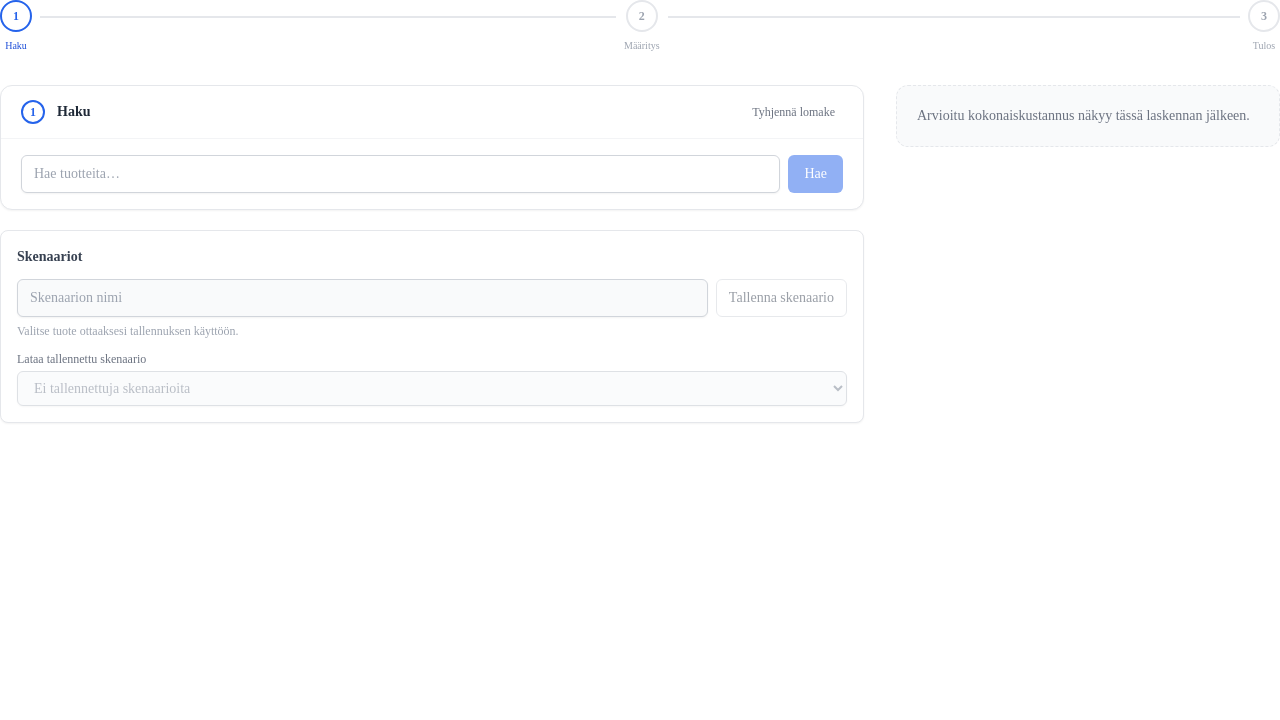
Test: CalculatorPage search no-results state (task 5.3) › renders the designed EmptyState when a settled search returns nothing
This screenshot has width=1280, height=720.
Type "absintti" into the field with placeholder "Hae tuotteita…". click: point(401, 174)
box: [21,155,780,193]
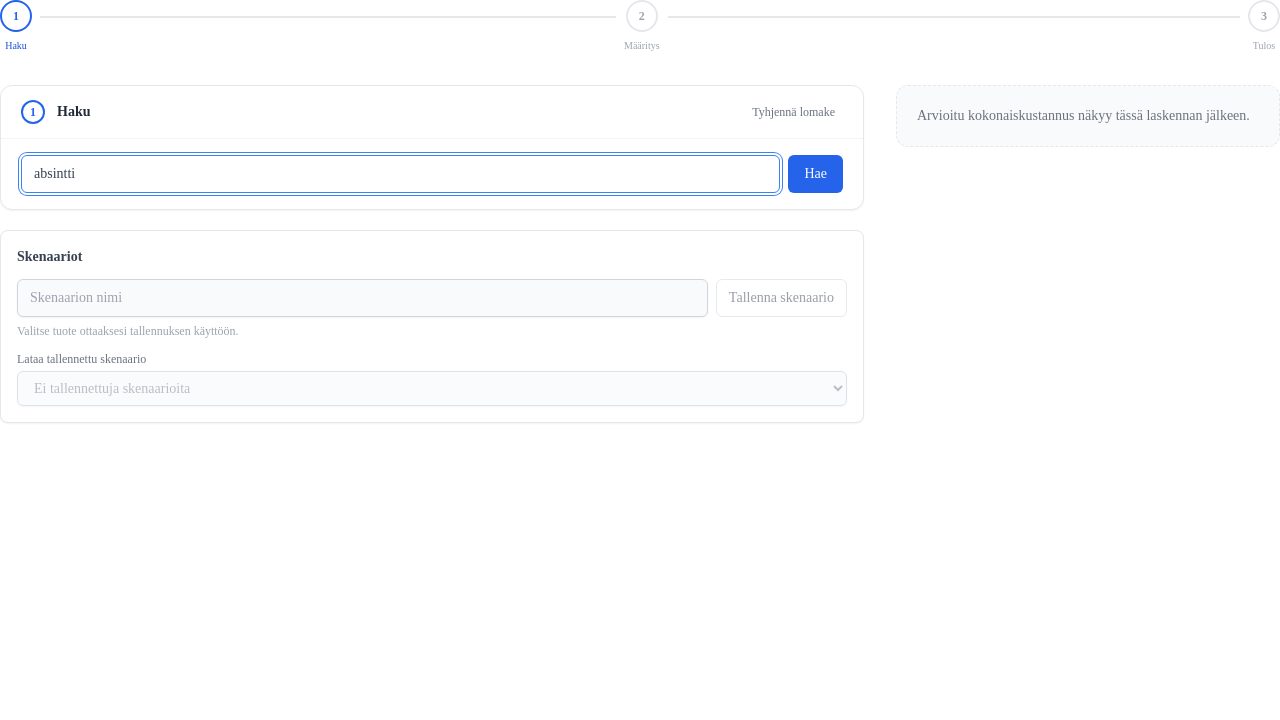
Click the button "Hae". click: point(816, 174)
box: [788,155,843,193]
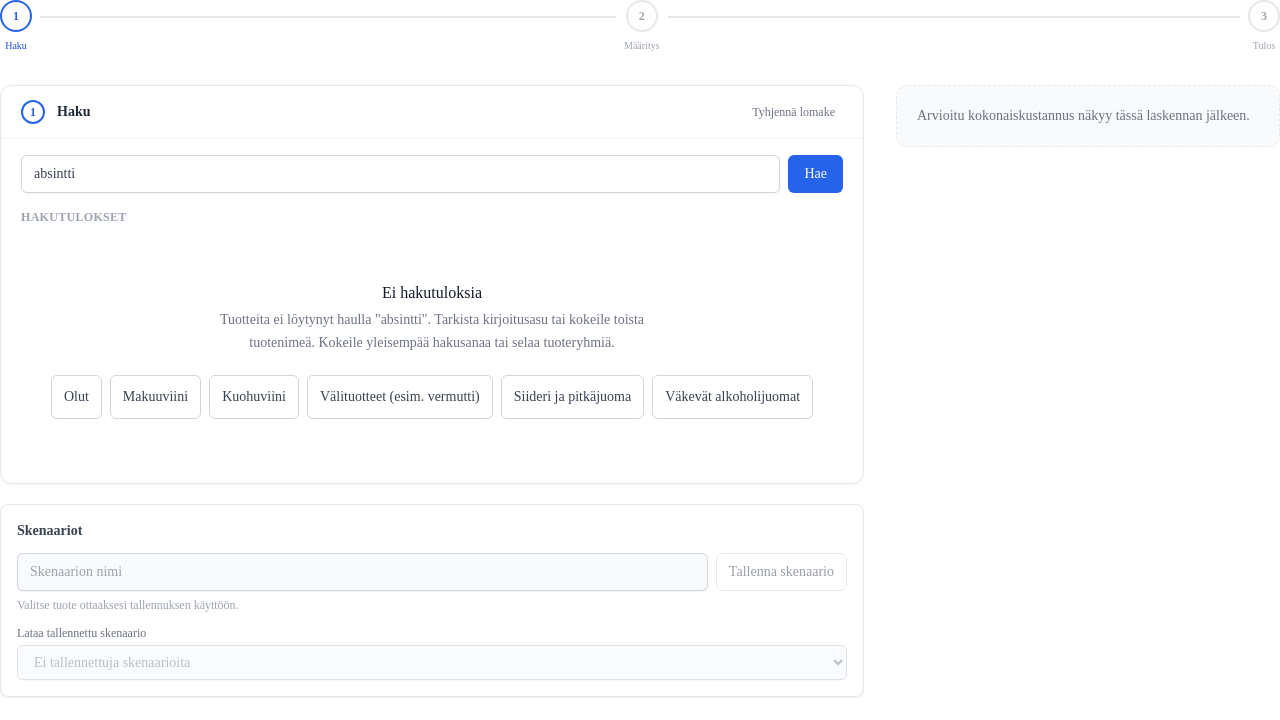
Check: the text "Ei hakutuloksia" is shown, box [382,284,482,301]
Check: the text "Tuotteita ei löytynyt haulla \"absintti\". Tarkista kirjoitusasu tai kokeile toista tuotenimeä." is shown, box [220,312,644,350]
